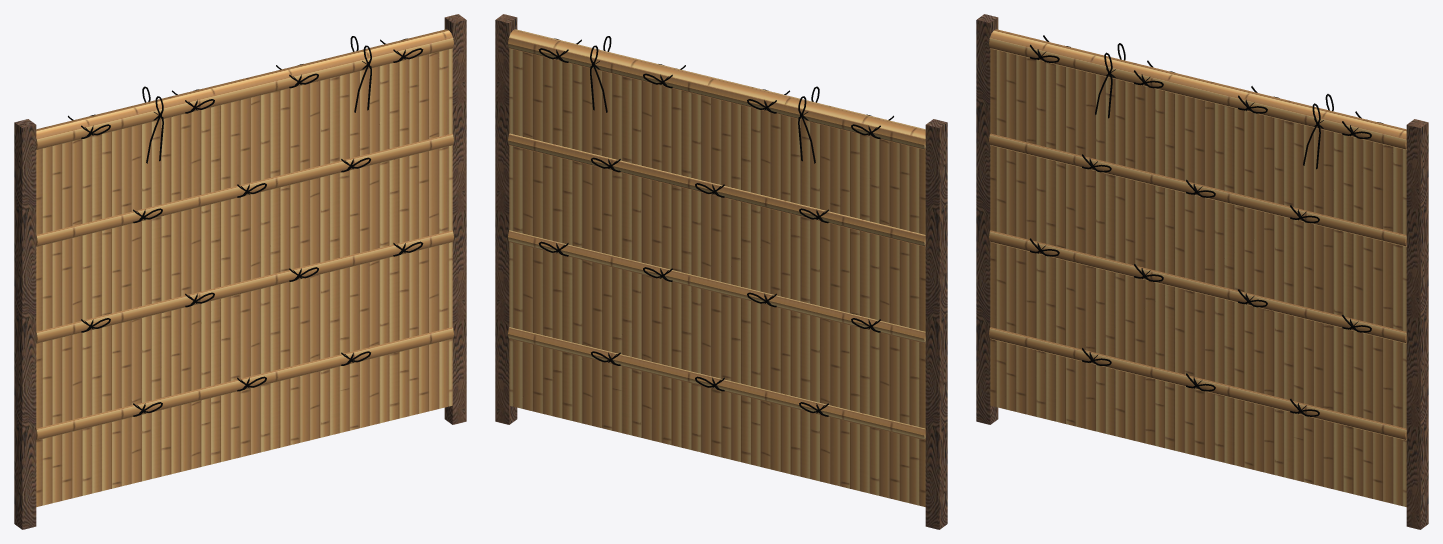
Rendered from 1920-1500_ever1_kenninji-kochiku.fbx.
3 views of the same model, side by side, from view 1: azimuth 30°, elevation 25°; view 2: azimuth 150°, elevation 25°; view 3: azimuth 330°, elevation 25° (orthographic).
Visible parts, largest first — view 1: 1920-1500_ever1karetake; view 2: 1920-1500_ever1karetake; view 3: 1920-1500_ever1karetake.
Boxes of the visible parts, x1=… form: 1920-1500_ever1karetake: x1=14, y1=14, x2=466, y2=529; 1920-1500_ever1karetake: x1=495, y1=14, x2=947, y2=529; 1920-1500_ever1karetake: x1=976, y1=14, x2=1428, y2=529.
Size of the model in its own units: 192 by 167 by 10.3.
Materials: 5 (4 with a texture image).
